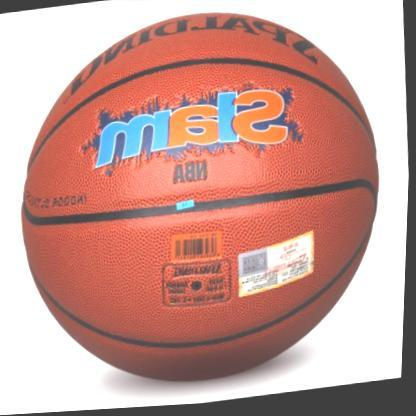basketball: (5, 0, 400, 405)
